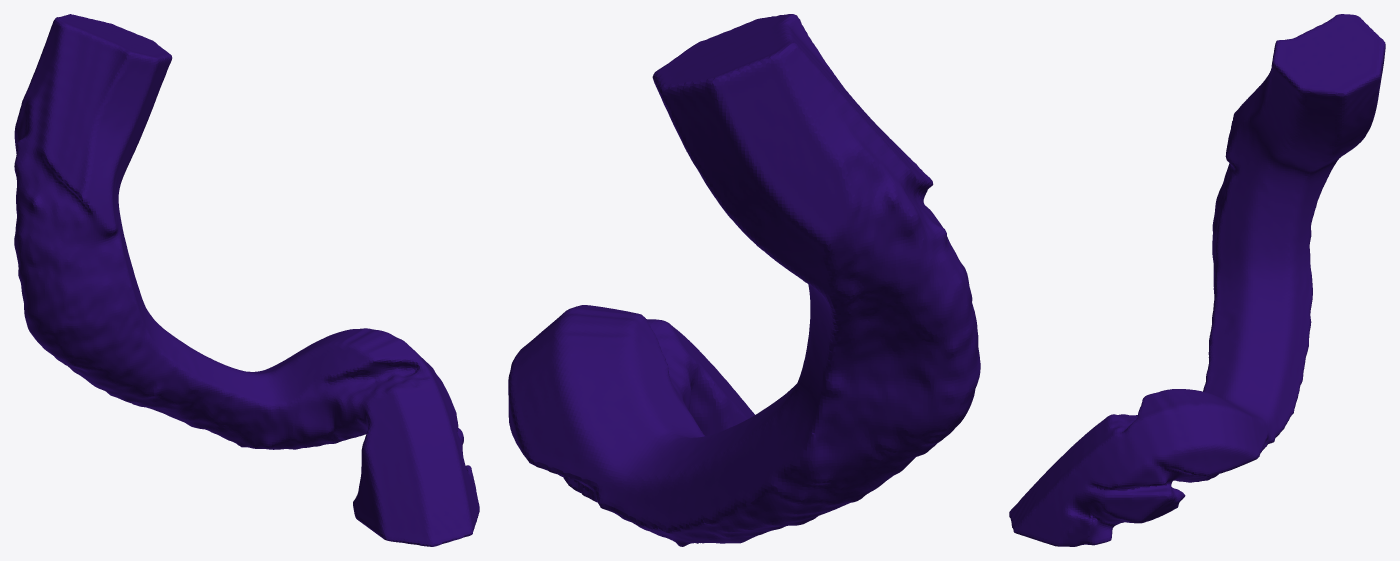
Rendered from sigmoid 2.2.glb.
The picture shows the model from 3 angles, left to right: view 1: azimuth 30°, elevation 25°; view 2: azimuth 150°, elevation 25°; view 3: azimuth 270°, elevation 25°; orthographic projection. The views are drawn at different scales.
Parts seen in each view (by area): view 1: Segmentation_Sigmoid sinus; view 2: Segmentation_Sigmoid sinus; view 3: Segmentation_Sigmoid sinus.
Boxes of the visible parts, x1=… form: Segmentation_Sigmoid sinus: x1=14, y1=14, x2=479, y2=546; Segmentation_Sigmoid sinus: x1=508, y1=14, x2=980, y2=546; Segmentation_Sigmoid sinus: x1=1009, y1=14, x2=1385, y2=546.
Bounding box in the file's own units: 38.95 × 46.17 × 38.11.
